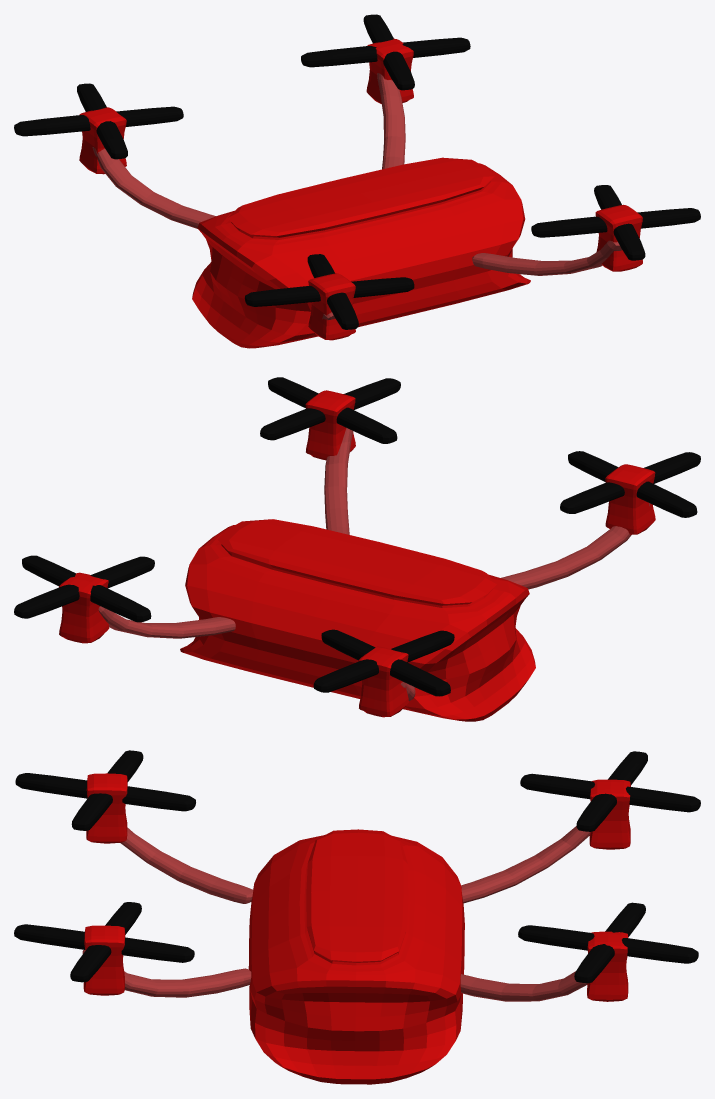
File: drone.glb
3 renders of one model, top to bottom at view 1: azimuth 30°, elevation 25°; view 2: azimuth 150°, elevation 25°; view 3: azimuth 270°, elevation 25°, orthographic. The views are drawn at different scales.
Visible parts, largest first — view 1: Object_4.001, Object_4.004, Object_4.005, Object_4.002, Object_4.003; view 2: Object_4.001, Object_4.004, Object_4.005, Object_4.002, Object_4.003; view 3: Object_4.001, Object_4.004, Object_4.005, Object_4.002, Object_4.003.
Boxes of the visible parts, x1=… form: Object_4.001: x1=79, y1=38, x2=642, y2=348; Object_4.004: x1=301, y1=14, x2=470, y2=90; Object_4.005: x1=14, y1=83, x2=183, y2=159; Object_4.002: x1=531, y1=185, x2=700, y2=260; Object_4.003: x1=244, y1=254, x2=414, y2=329; Object_4.001: x1=59, y1=390, x2=655, y2=721; Object_4.004: x1=14, y1=555, x2=154, y2=622; Object_4.005: x1=313, y1=629, x2=454, y2=696; Object_4.002: x1=260, y1=377, x2=400, y2=443; Object_4.003: x1=560, y1=451, x2=700, y2=517; Object_4.001: x1=82, y1=773, x2=630, y2=1084; Object_4.004: x1=518, y1=902, x2=698, y2=983; Object_4.005: x1=520, y1=751, x2=700, y2=831; Object_4.002: x1=14, y1=902, x2=194, y2=982; Object_4.003: x1=15, y1=750, x2=195, y2=830.
Size of the model in its own units: 2.13 by 0.6987 by 2.7.
